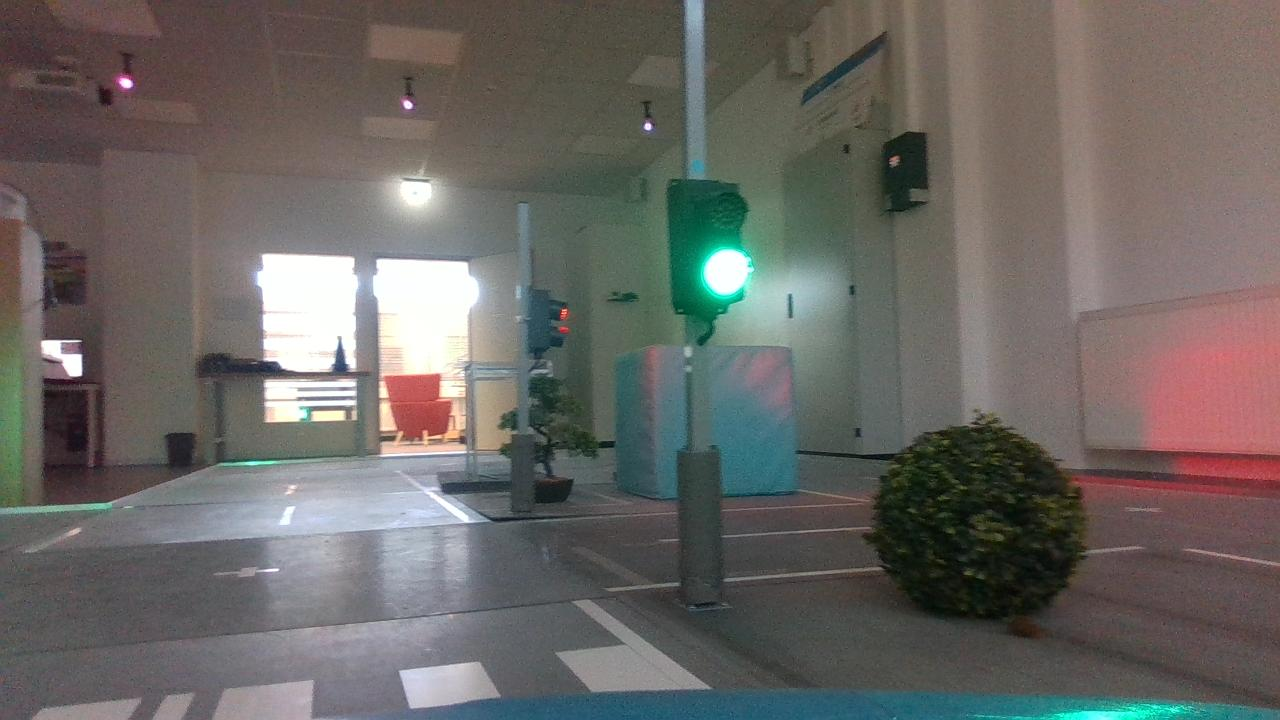traffic_light_green: (658, 171, 761, 319)
